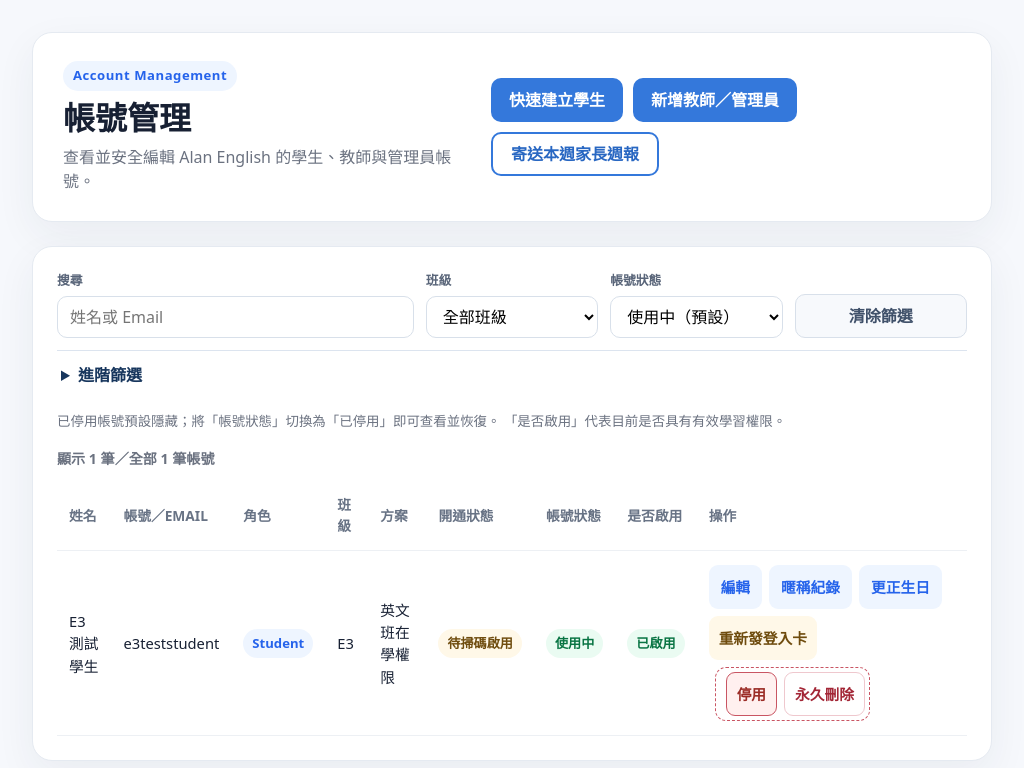
Test case: AccountManagement › allows an admin to reissue a login card for an unactivated academy student
This screenshot has width=1024, height=768.
Click the button "重新發登入卡": (763, 638) [709,616,817,660]
(page scrolled)
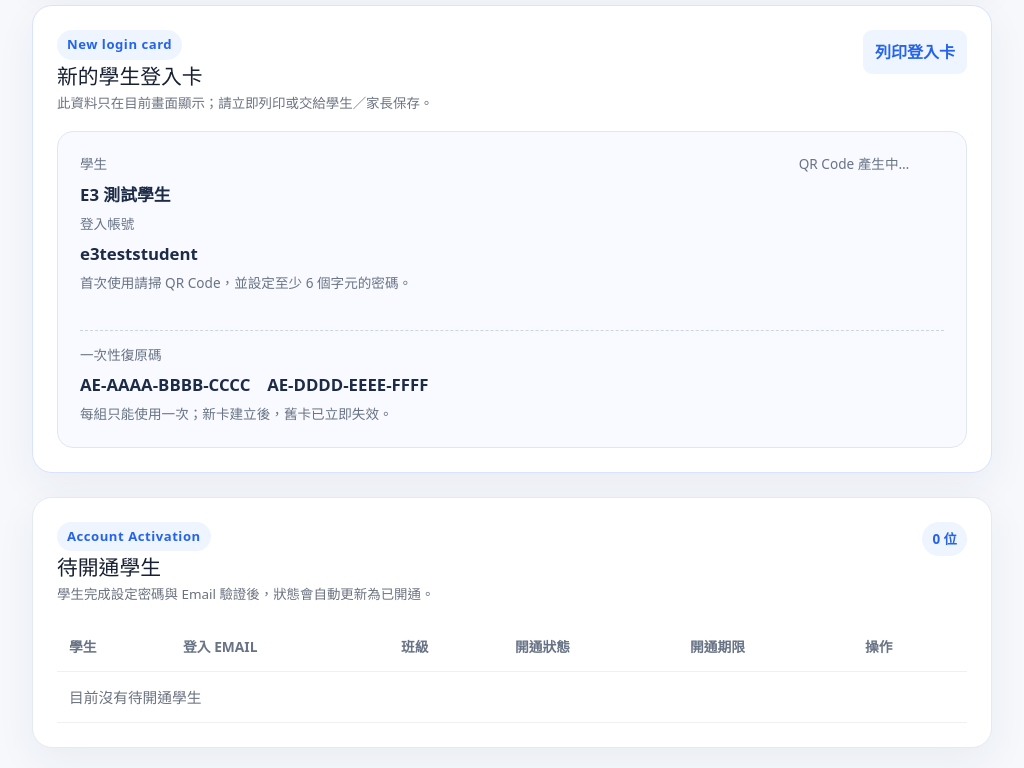
Check: the heading "新的學生登入卡" is shown, box [57,62,203,90]
Check: the text "AE-AAAA-BBBB-CCCC AE-DDDD-EEEE-FFFF" is shown, box [80,373,428,396]
